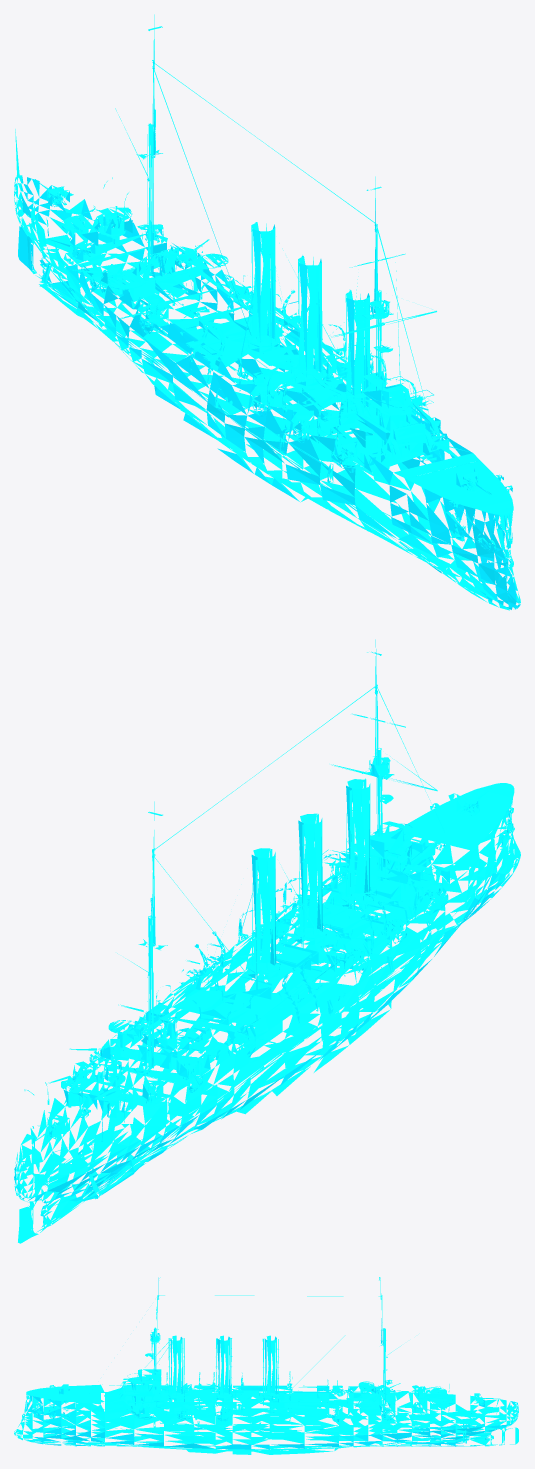
Rendered from PRSC523.glb.
3 renders of one model, top to bottom at view 1: azimuth 30°, elevation 25°; view 2: azimuth 150°, elevation 25°; view 3: azimuth 270°, elevation 25°, orthographic. The views are drawn at different scales.
Visible parts, largest first — view 1: hull_mid, hull_stern, hull_bow, secondary_battery; view 2: hull_mid, hull_stern, hull_bow, secondary_battery; view 3: hull_mid, hull_stern, hull_bow, secondary_battery.
Boxes of the visible parts, box(x1,y1,x2,y2) form: hull_mid: box(78, 14, 479, 573); hull_stern: box(14, 129, 183, 347); hull_bow: box(406, 460, 520, 610); secondary_battery: box(35, 179, 491, 494); hull_mid: box(83, 639, 480, 1157); hull_stern: box(14, 1048, 184, 1243); hull_bow: box(407, 783, 520, 936); secondary_battery: box(35, 788, 491, 1141); hull_mid: box(91, 1277, 410, 1454); hull_stern: box(387, 1384, 518, 1446); hull_bow: box(14, 1385, 90, 1446); secondary_battery: box(42, 1380, 499, 1418).
Size of the model in its own units: 1.53 by 3.21 by 8.47.
